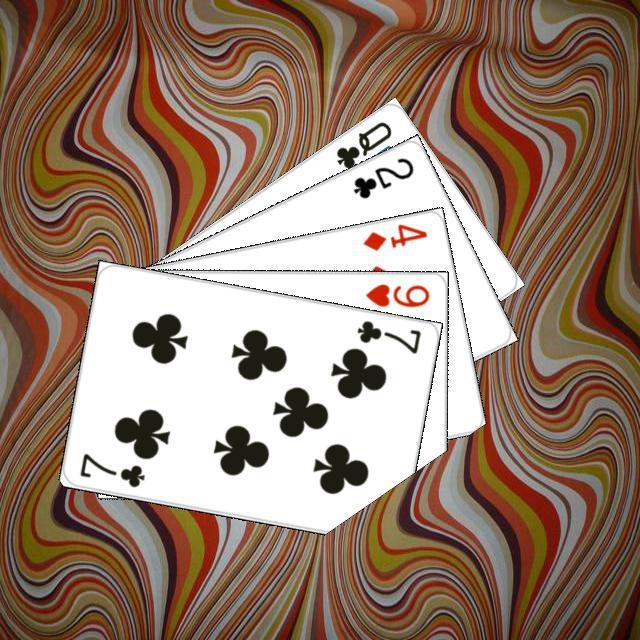2c: (348, 152, 415, 201)
4d: (358, 219, 429, 253)
7c: (75, 448, 147, 489), (352, 315, 423, 356)
9h: (360, 279, 431, 309)
Qc: (330, 116, 394, 182)
